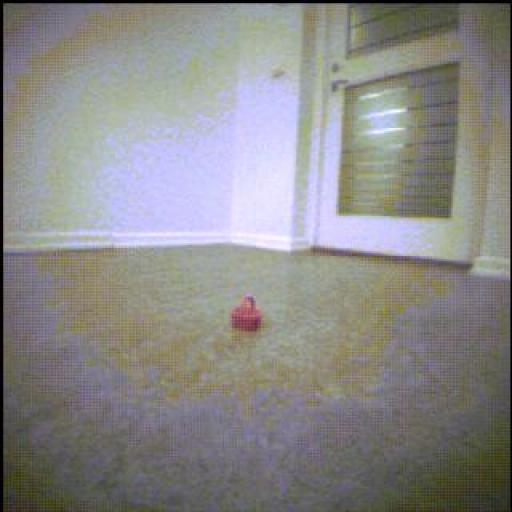Bucket: (231, 297, 262, 332)
